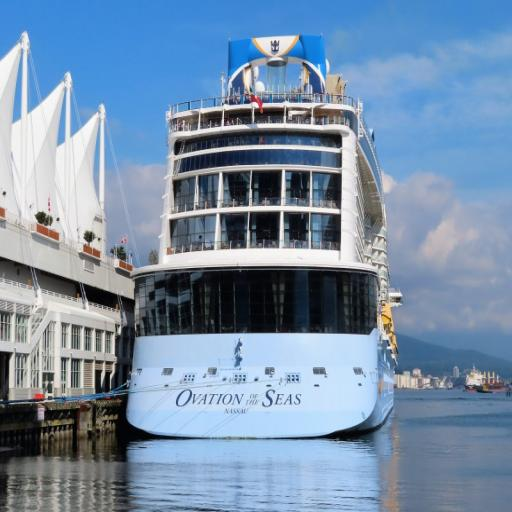cruises: (127, 30, 406, 447)
